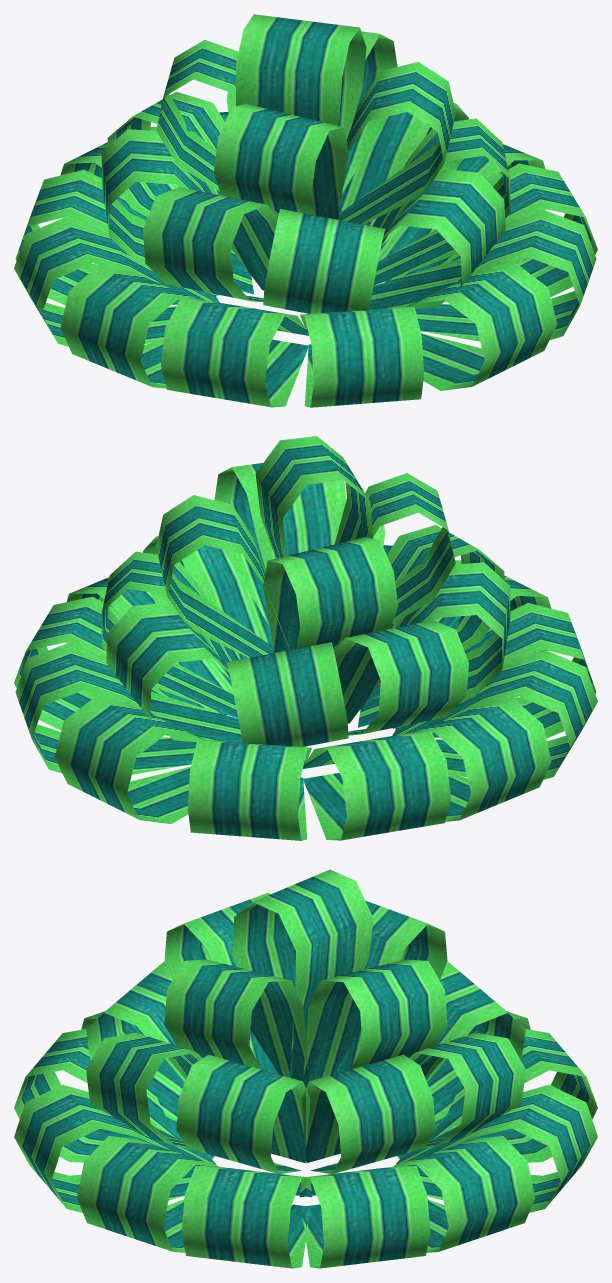
3 renders of one model, top to bottom at view 1: azimuth 30°, elevation 25°; view 2: azimuth 150°, elevation 25°; view 3: azimuth 270°, elevation 25°, orthographic.
Parts seen in each view (by area): view 1: smMAT0110030; view 2: smMAT0110030; view 3: smMAT0110030.
Part boxes in pixels (x1,y1,x2,y2): smMAT0110030: [14, 14, 597, 407]; smMAT0110030: [14, 436, 597, 840]; smMAT0110030: [14, 869, 597, 1268].
Bounding box in the file's own units: 31.93 × 16.77 × 32.23.
Materials: 1 (1 with a texture image).
